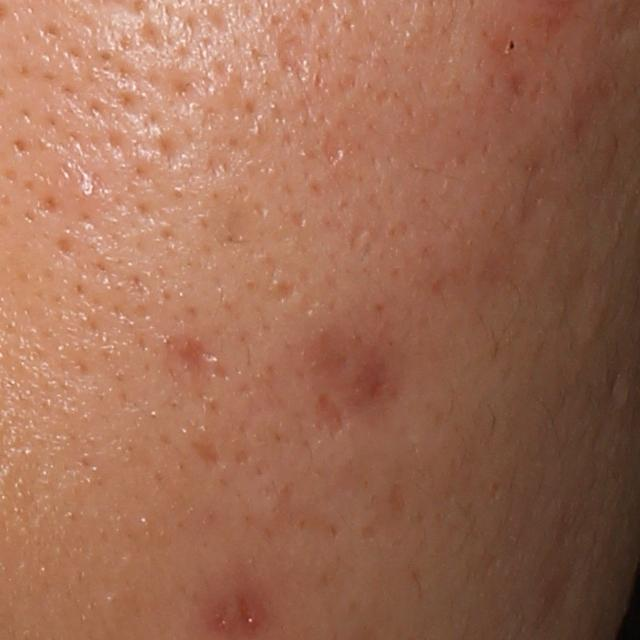atrophic_scar: (258, 12, 318, 86), (205, 185, 267, 256), (165, 335, 220, 397), (316, 391, 348, 439), (187, 440, 220, 468), (320, 130, 343, 165), (269, 280, 297, 298)
